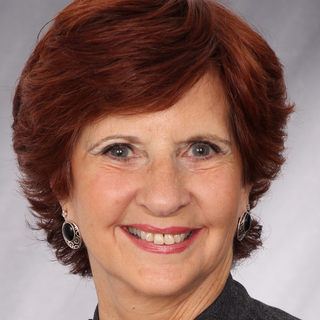eye: (97, 139, 143, 164), (178, 139, 225, 163)
